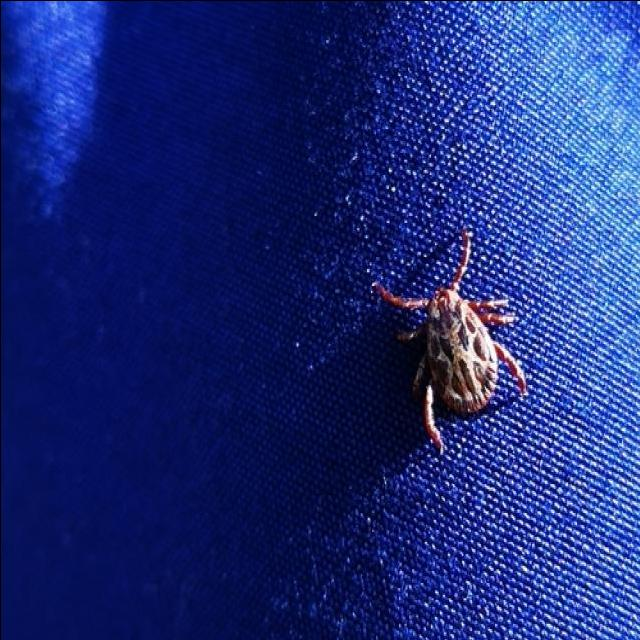Dermacentor Reticulatus-M: (375, 234, 525, 449)
